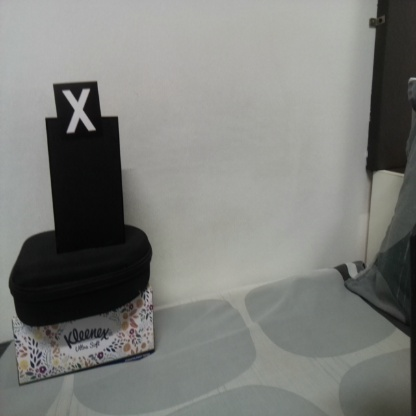id_13: (53, 82, 102, 142)
